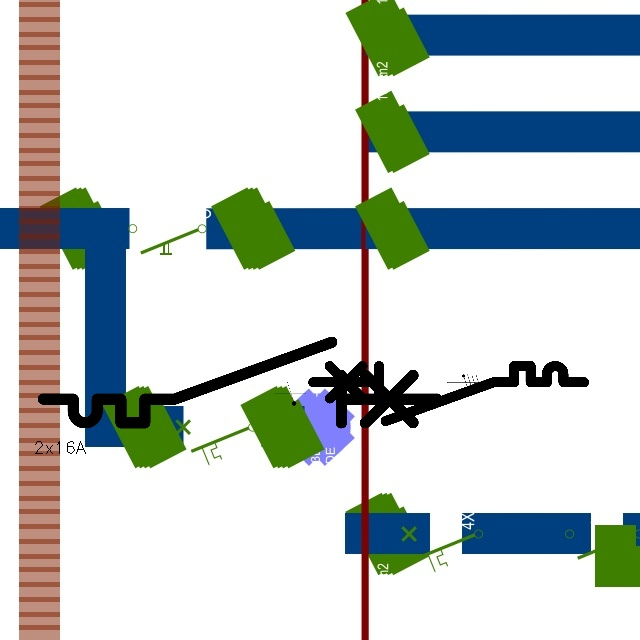interruptor_termomagnetico: (33, 332, 447, 433), (306, 359, 591, 428)
